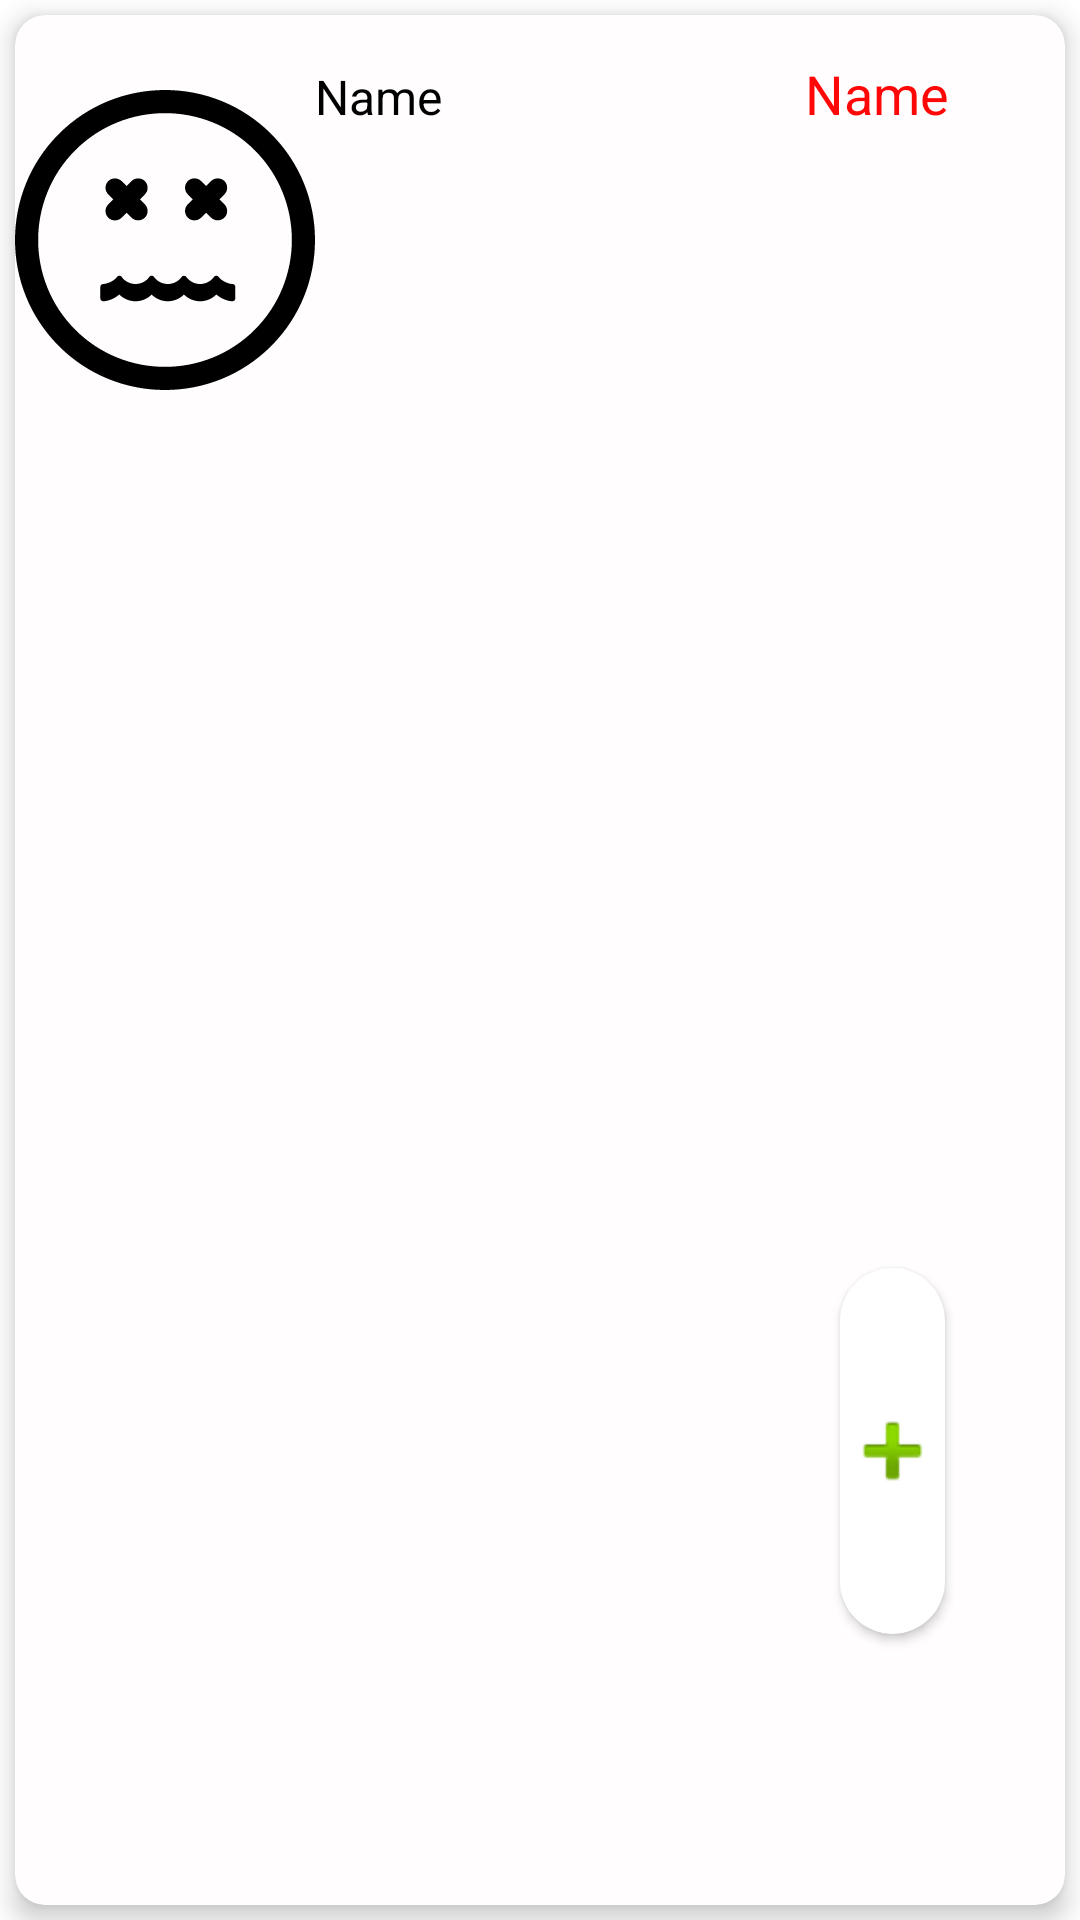

Named icons in this screenshot (1080 × 1920) and their centers, (x=x, y=y):
add: (x=893, y=1470)
